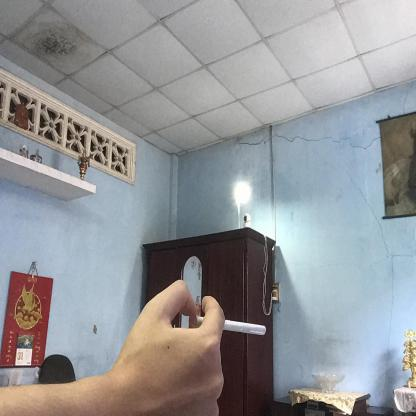cigarette: (225, 316, 270, 342)
